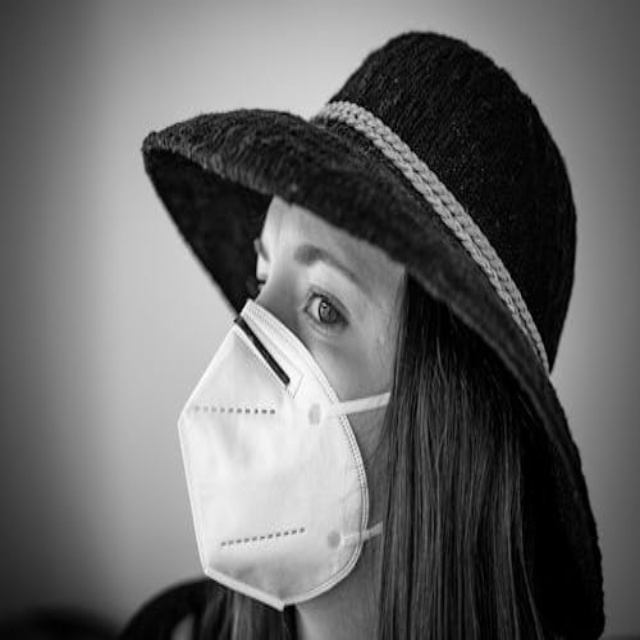Mascara: (177, 294, 387, 609)
Sin_gafas: (248, 220, 399, 358)
